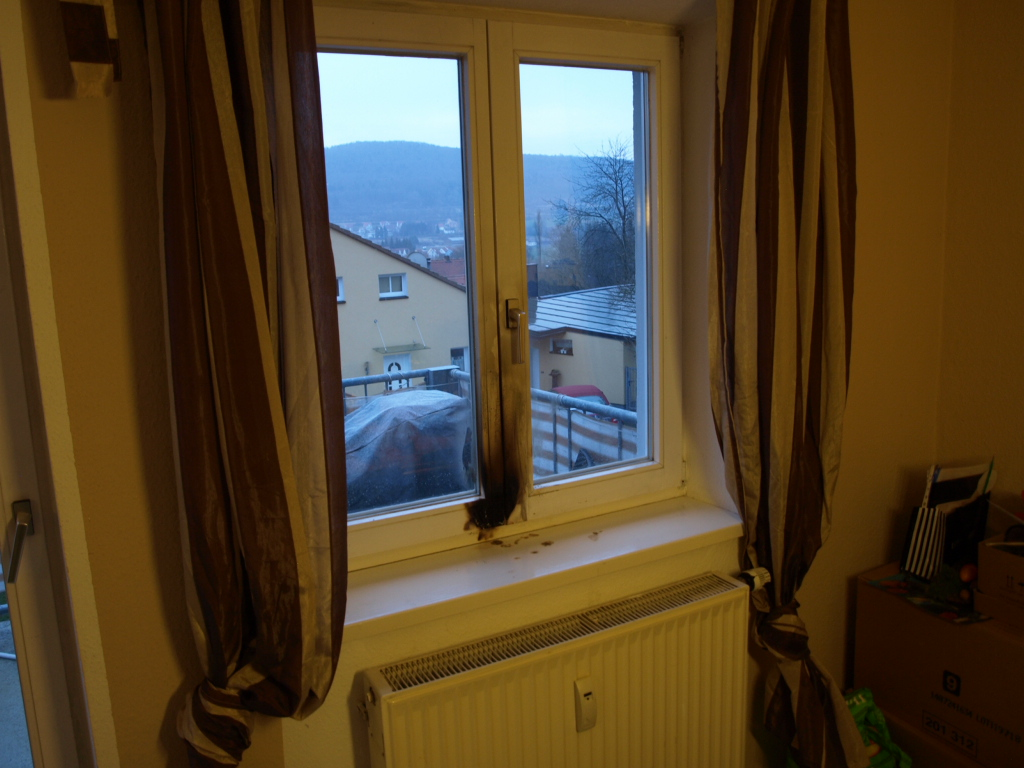windows: (307, 7, 686, 532)
